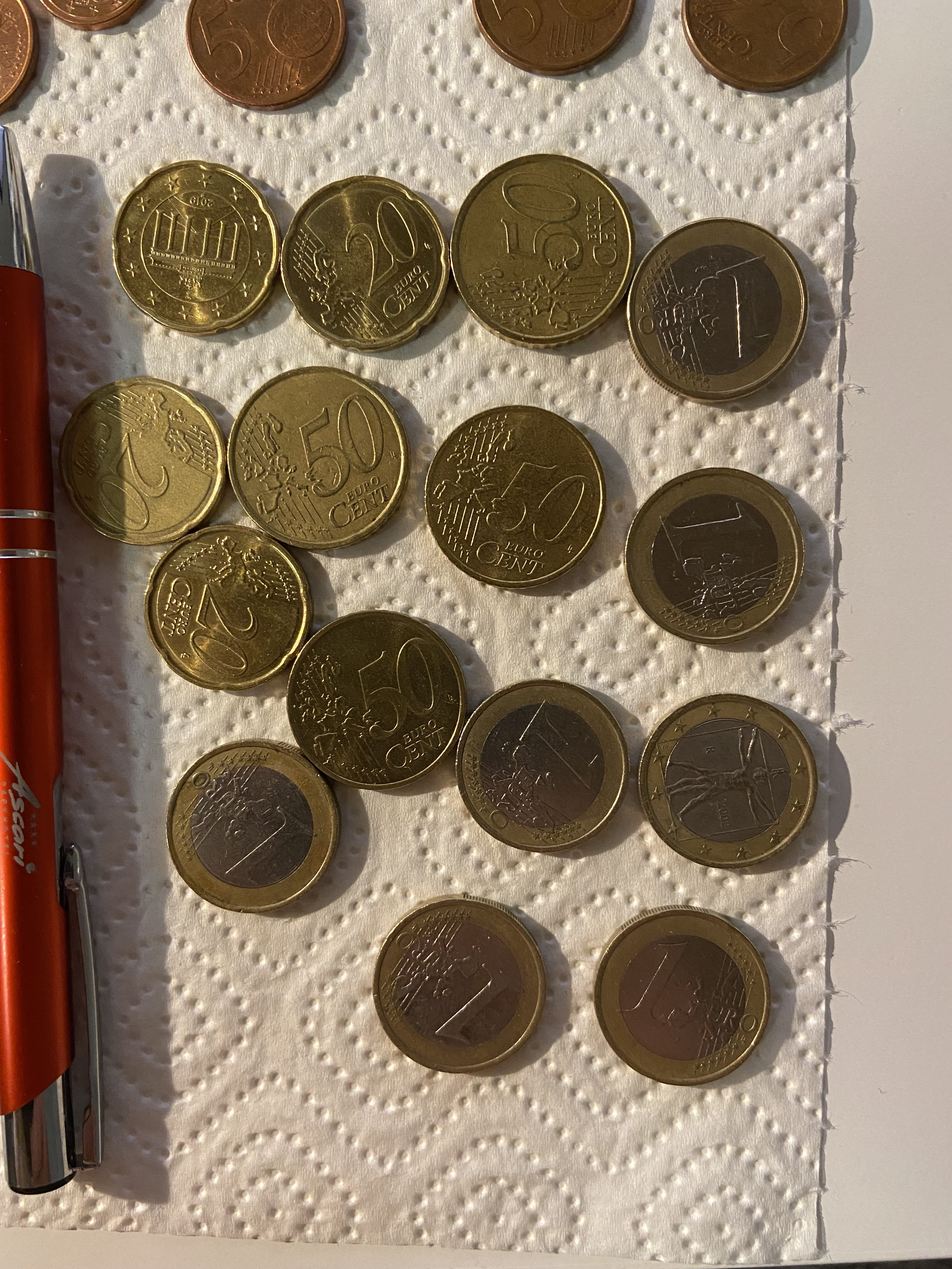1 euro: (640, 684, 821, 874), (625, 461, 806, 651), (596, 905, 776, 1095), (452, 668, 632, 858), (161, 729, 341, 919), (631, 213, 811, 403), (374, 889, 550, 1079)
10 cent: (282, 173, 449, 356), (112, 155, 279, 338), (61, 375, 229, 545), (141, 520, 308, 690)
5 cent: (184, 0, 358, 116), (676, 0, 850, 89), (470, 0, 643, 77)
50 cent: (448, 153, 641, 350), (224, 358, 417, 554), (422, 400, 615, 596), (283, 604, 473, 793)
